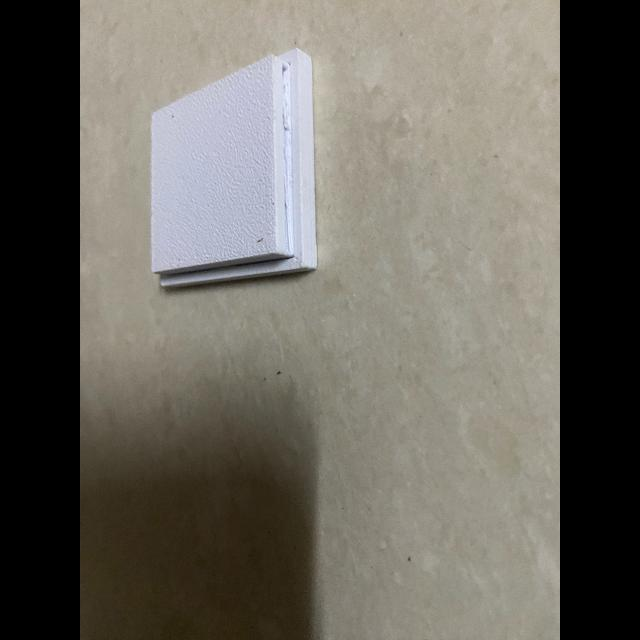RASPBERY PI CAM ENCLOSURE: (150, 47, 318, 287)
